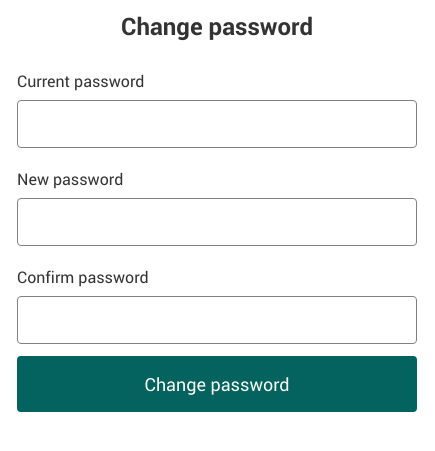
Scenario: Changing password fails (server returns not success)
Type "Password123" into the password field labelled "Current password".
click(217, 124); type("Password123")  # box [17,100,417,148]
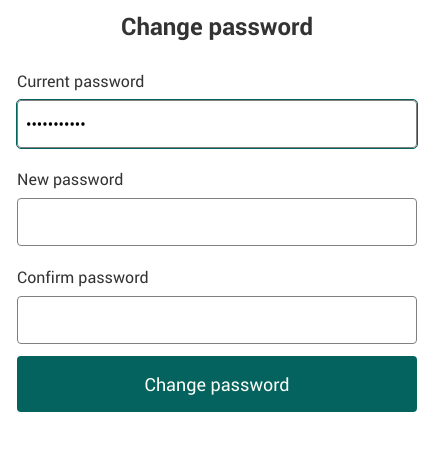
Type "Password123" into the password field labelled "New password".
click(217, 222); type("Password123")  # box [17,198,417,246]
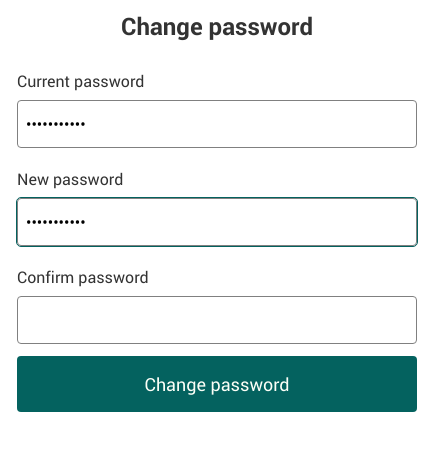
Type "Password123" into the password field labelled "Confirm password".
click(217, 320); type("Password123")  # box [17,296,417,344]
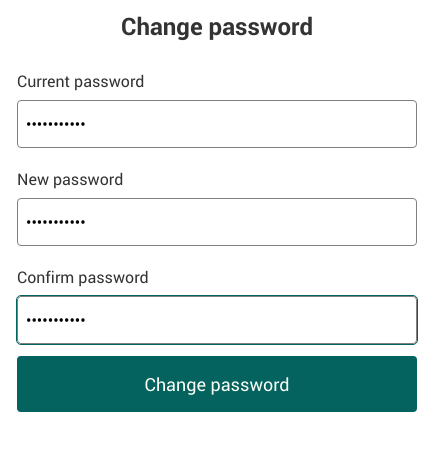
Click the button "Change password".
click(217, 384)  # box [17,356,417,412]
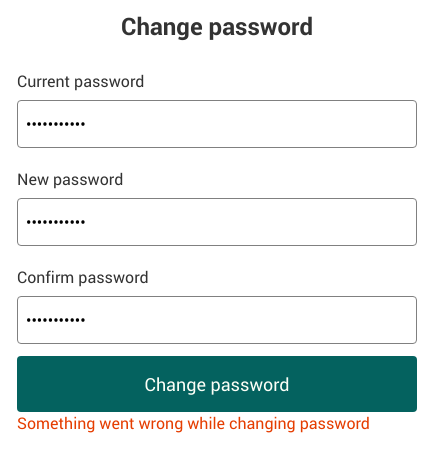
expect the text "Something went wrong while changing password" is shown: met, box [17,412,370,434]
